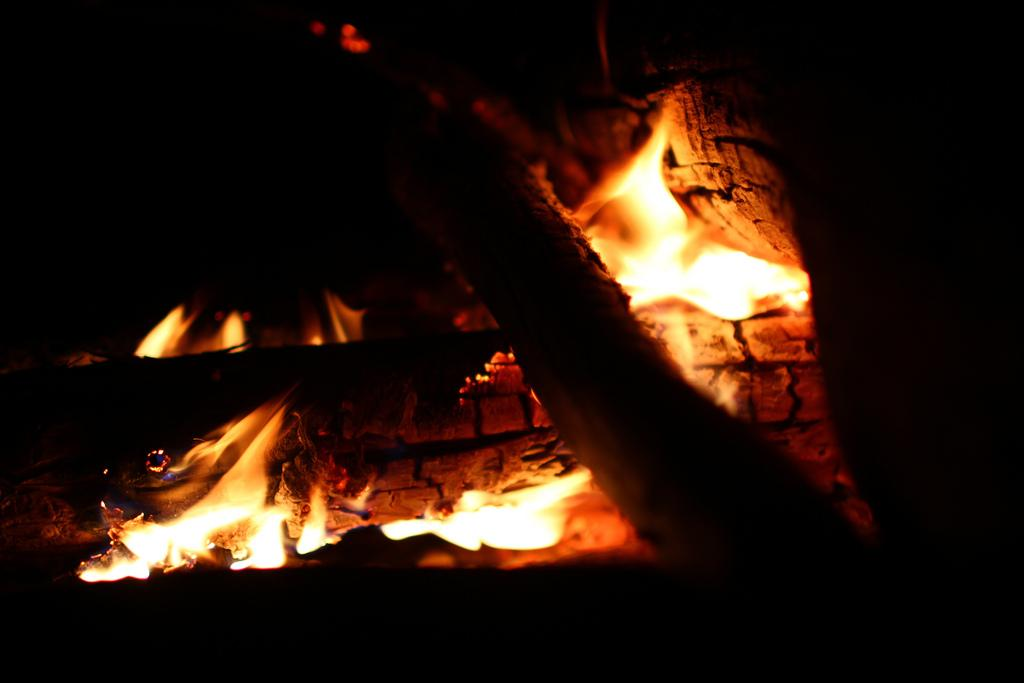fire: (615, 158, 743, 317), (117, 500, 292, 577), (418, 490, 568, 548)
